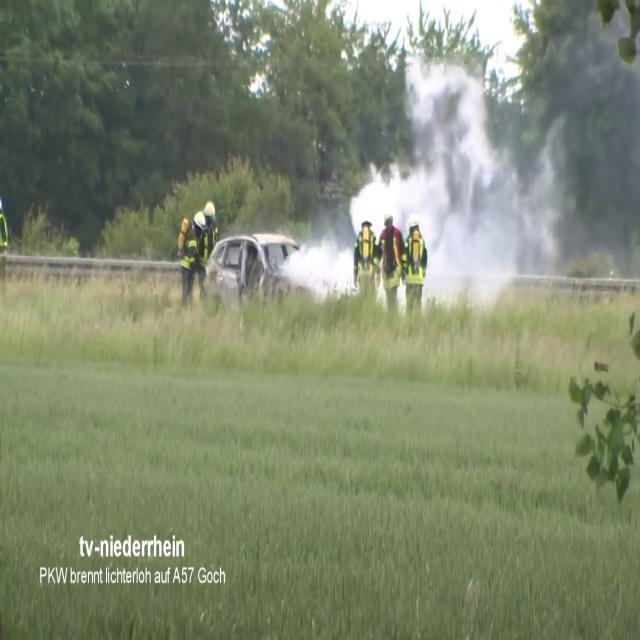Smoke: (400, 44, 564, 317), (282, 217, 358, 305)
